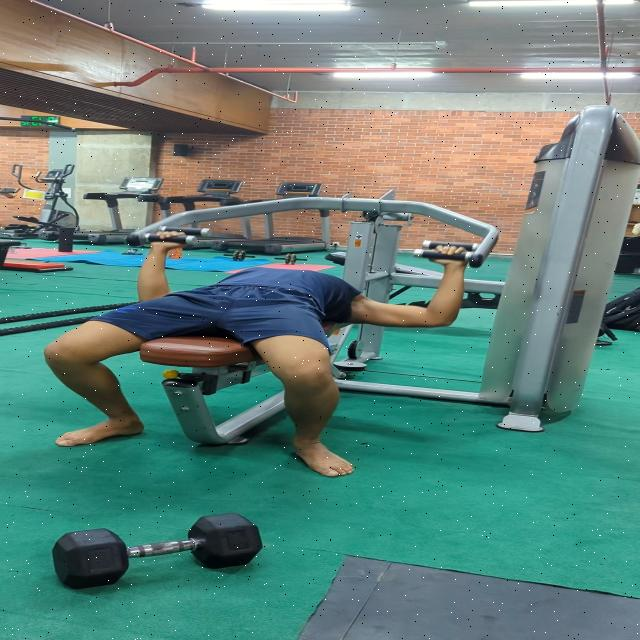Normal_BrenchPress: (30, 235, 478, 474)
